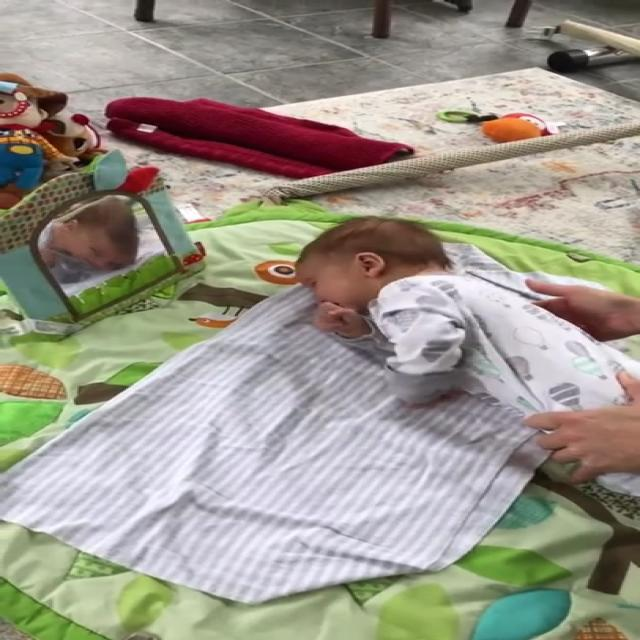baby: (272, 212, 640, 502)
